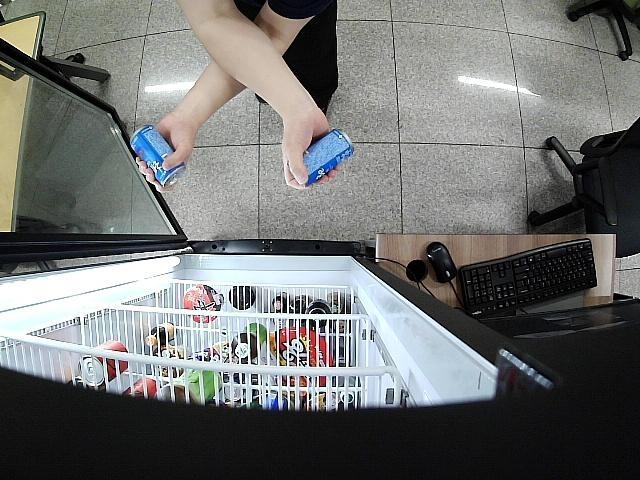15_letsbe: (129, 125, 187, 188), (302, 128, 356, 188)
